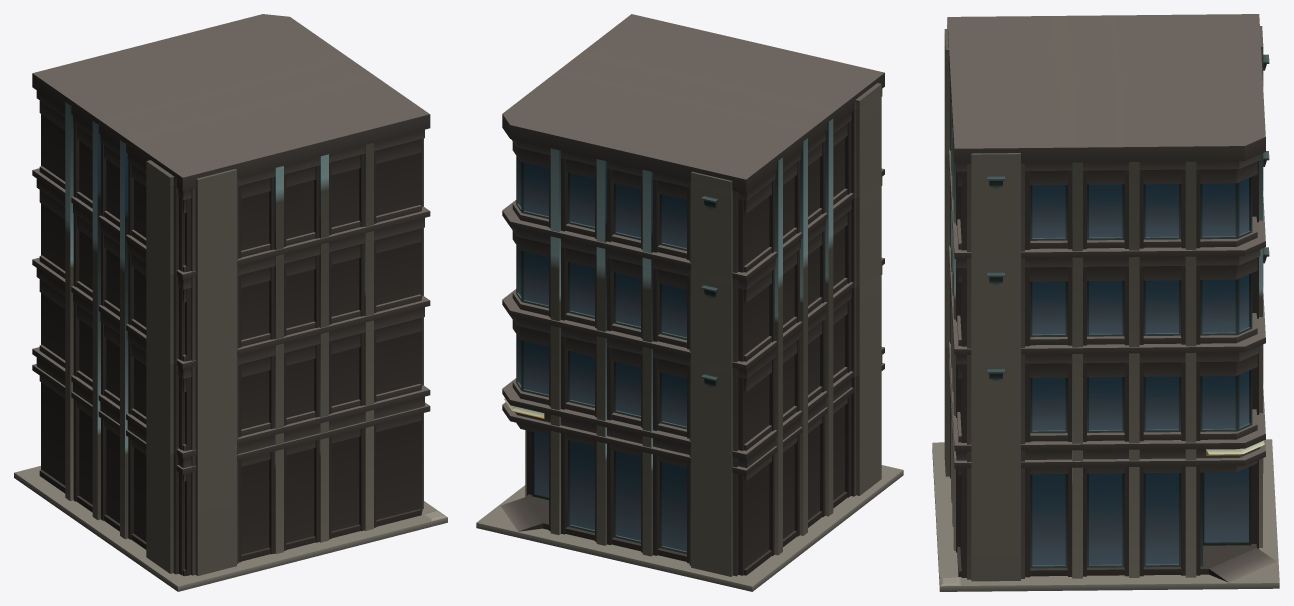
Rendered from BLD1210009.fbx.
3 views of the same model, side by side, from view 1: azimuth 30°, elevation 25°; view 2: azimuth 150°, elevation 25°; view 3: azimuth 270°, elevation 25° (orthographic). The views are drawn at different scales.
Parts seen in each view (by area): view 1: smBLD1210009; view 2: smBLD1210009; view 3: smBLD1210009.
Boxes of the visible parts, left/top/right/bottom form: smBLD1210009: left=14, top=14, right=447, bottom=591; smBLD1210009: left=476, top=14, right=903, bottom=591; smBLD1210009: left=932, top=14, right=1279, bottom=591.
Size of the model in its own units: 868 by 1206 by 868.
Materials: 1 (1 with a texture image).
